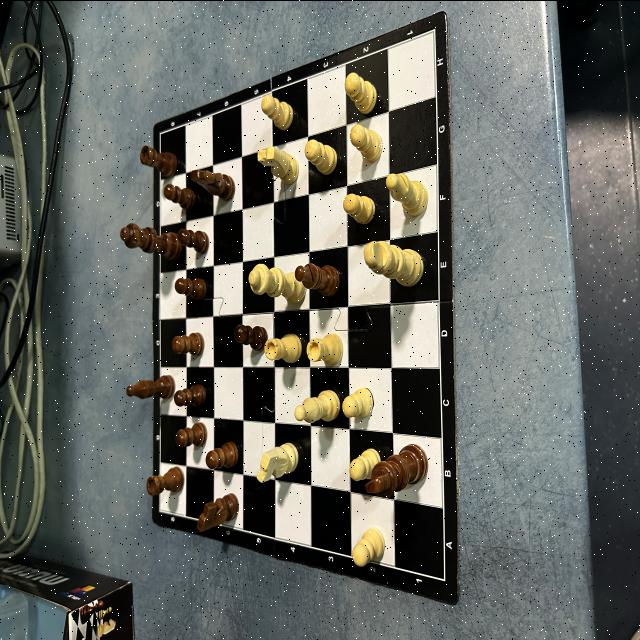Black-Bishop: (294, 262, 340, 296), (126, 374, 176, 398)
Black-King: (364, 442, 428, 497)
Black-Knight: (197, 492, 239, 532), (190, 168, 236, 202)
Black-Pawn: (205, 439, 239, 468), (234, 322, 268, 350), (163, 182, 196, 210), (175, 421, 208, 447), (174, 382, 207, 407), (171, 331, 205, 355), (178, 226, 209, 252), (174, 276, 207, 300)
Black-Queen: (120, 222, 182, 260)
Black-Rook: (140, 144, 178, 178), (146, 466, 184, 496)
White-Bishop: (386, 172, 428, 216), (294, 388, 340, 422)
White-King: (364, 238, 424, 286)
White-Knight: (256, 441, 298, 482), (257, 144, 299, 184)
White-Pawn: (344, 72, 378, 114), (349, 123, 384, 161), (352, 526, 385, 566), (260, 92, 294, 130), (304, 138, 338, 175), (349, 447, 382, 481), (344, 192, 376, 224), (342, 387, 374, 418)
White-Queen: (248, 262, 306, 302)
White-Rook: (306, 332, 343, 366), (264, 332, 302, 363)
